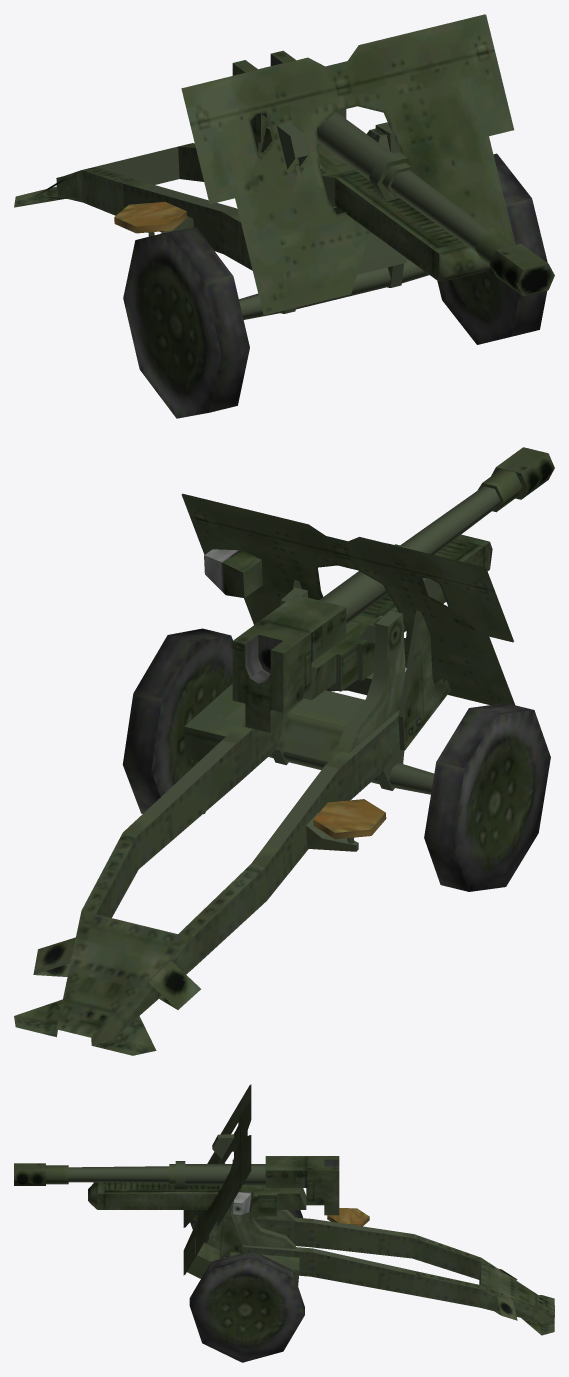
The model's file is GBR25pdr.dae.
The picture shows the model from 3 angles, top to bottom: view 1: azimuth 30°, elevation 25°; view 2: azimuth 150°, elevation 25°; view 3: azimuth 270°, elevation 25°; orthographic projection. The views are drawn at different scales.
Visible parts, largest first — view 1: carriage, barrel, sleeve; view 2: carriage, barrel, sleeve; view 3: carriage, barrel, sleeve.
Part boxes in pixels (x1=…): carriage: x1=14, y1=14, x2=547, y2=418; barrel: x1=232, y1=50, x2=554, y2=296; sleeve: x1=261, y1=127, x2=490, y2=281; carriage: x1=14, y1=493, x2=550, y2=1055; barrel: x1=232, y1=447, x2=554, y2=732; sleeve: x1=304, y1=534, x2=492, y2=700; carriage: x1=183, y1=1084, x2=554, y2=1362; barrel: x1=14, y1=1156, x2=339, y2=1215; sleeve: x1=88, y1=1182, x2=306, y2=1217.
Bounding box in the file's own units: 13 × 31.59 × 12.13.
